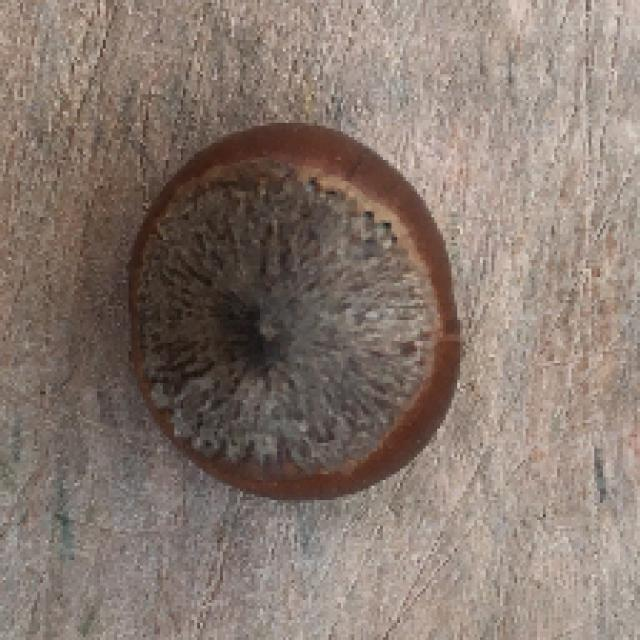damagedHazelnut: (117, 108, 484, 511)
